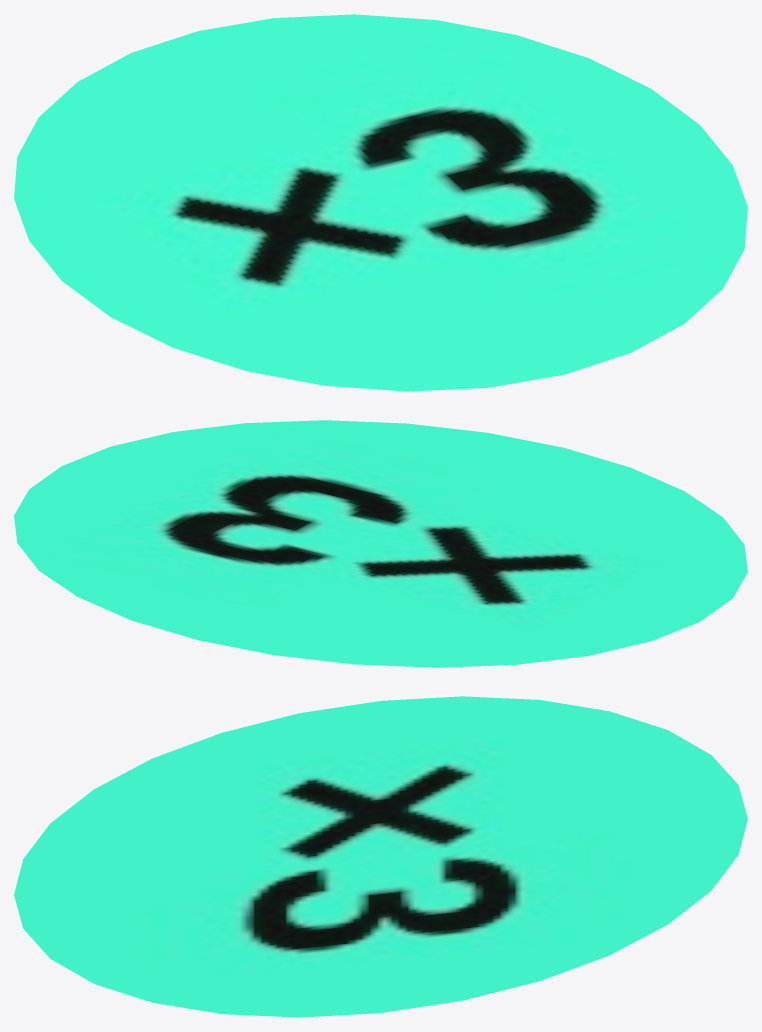
Rendered from pp_light_mult3.glb.
3 renders of one model, top to bottom at view 1: azimuth 30°, elevation 25°; view 2: azimuth 150°, elevation 25°; view 3: azimuth 270°, elevation 25°, orthographic.
Parts seen in each view (by area): view 1: MultLight; view 2: MultLight; view 3: MultLight.
Part boxes in pixels (box(x1,y1,x2,y2)): MultLight: box(14, 14, 747, 391); MultLight: box(14, 420, 747, 667); MultLight: box(14, 696, 747, 1017).
Bounding box in the file's own units: 0.025 × 0.00283 × 0.0248.
Materials: 1 (1 with a texture image).
